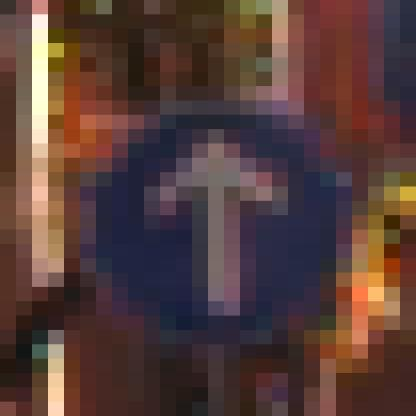AheadOnly: (81, 87, 337, 345)
